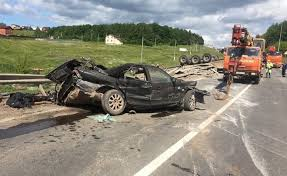car: (45, 47, 207, 122)
